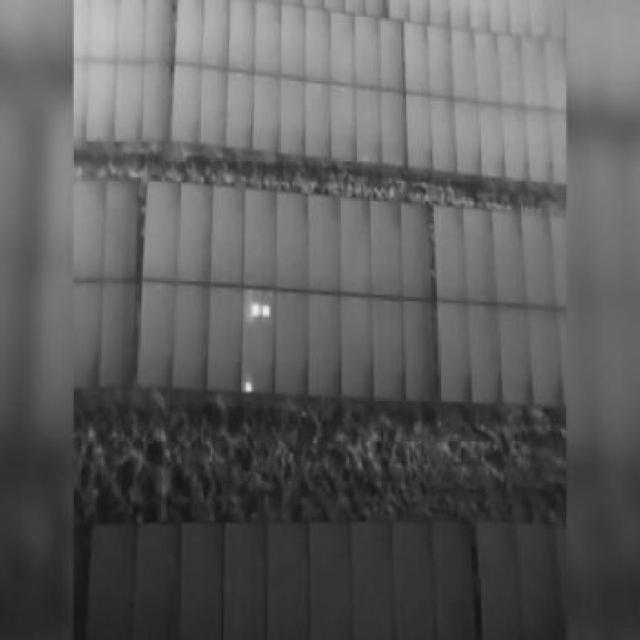hotspot: (244, 379, 256, 395), (262, 302, 272, 318), (252, 301, 260, 319)
